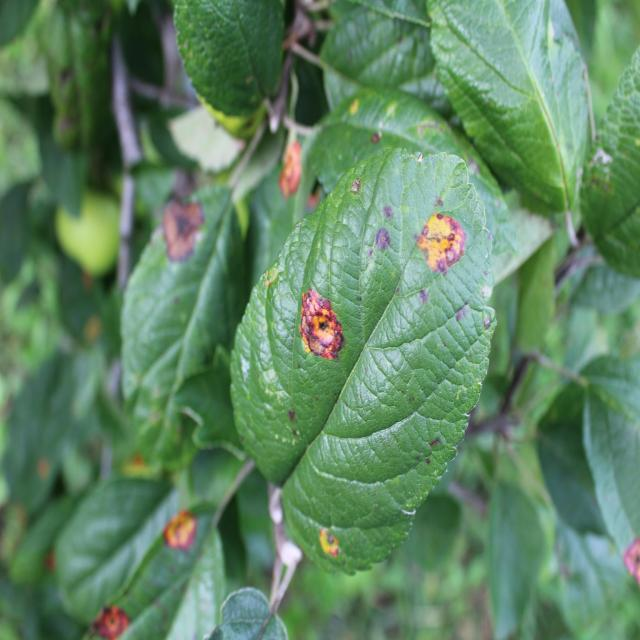Black Rot: (151, 184, 216, 282), (353, 224, 403, 264), (376, 182, 398, 228), (360, 124, 386, 154)
Rust: (295, 266, 348, 398), (419, 186, 471, 292), (261, 133, 312, 208), (79, 589, 143, 640), (157, 508, 213, 566), (309, 522, 363, 572), (119, 447, 166, 484), (347, 94, 365, 124), (258, 275, 286, 294)
scab: (210, 148, 488, 572)
